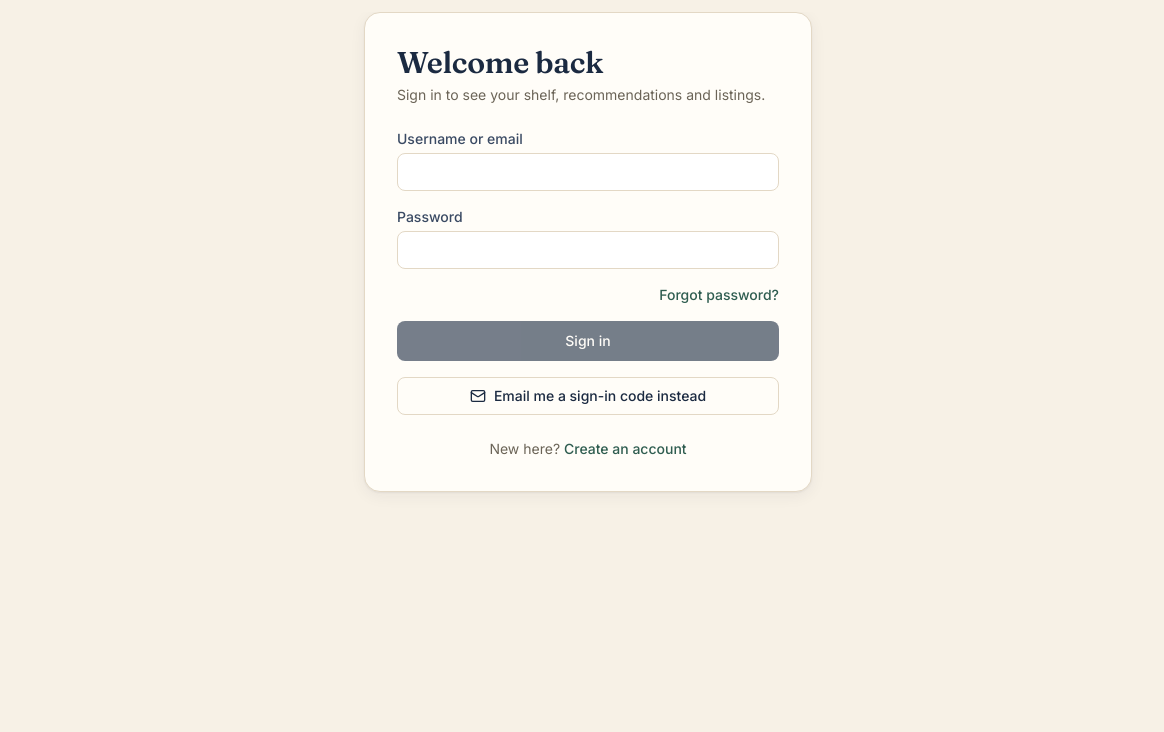
login flow › redirects to the requested page after logging in
This screenshot has width=1164, height=732.
In the field labelled "Username or email": coordinates (588, 172) [397,153,779,191], type "a@b.com"
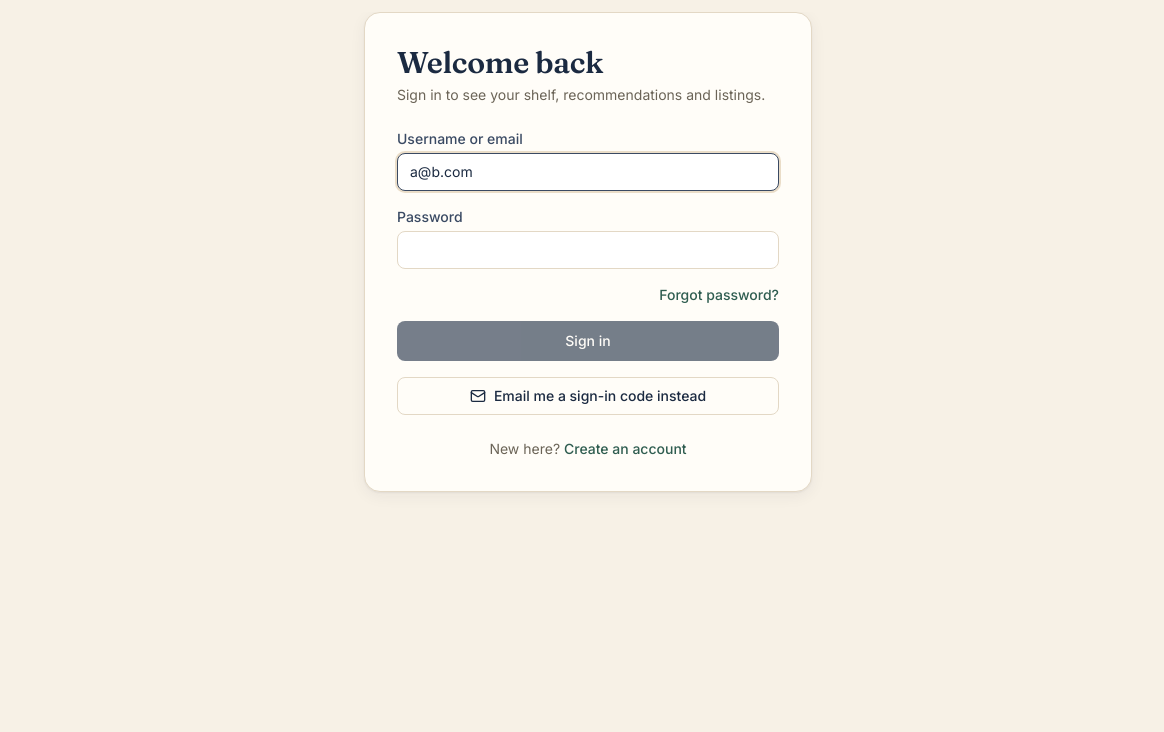
In the password field labelled "Password": coordinates (588, 250) [397,231,779,269], type "right-pass-1"
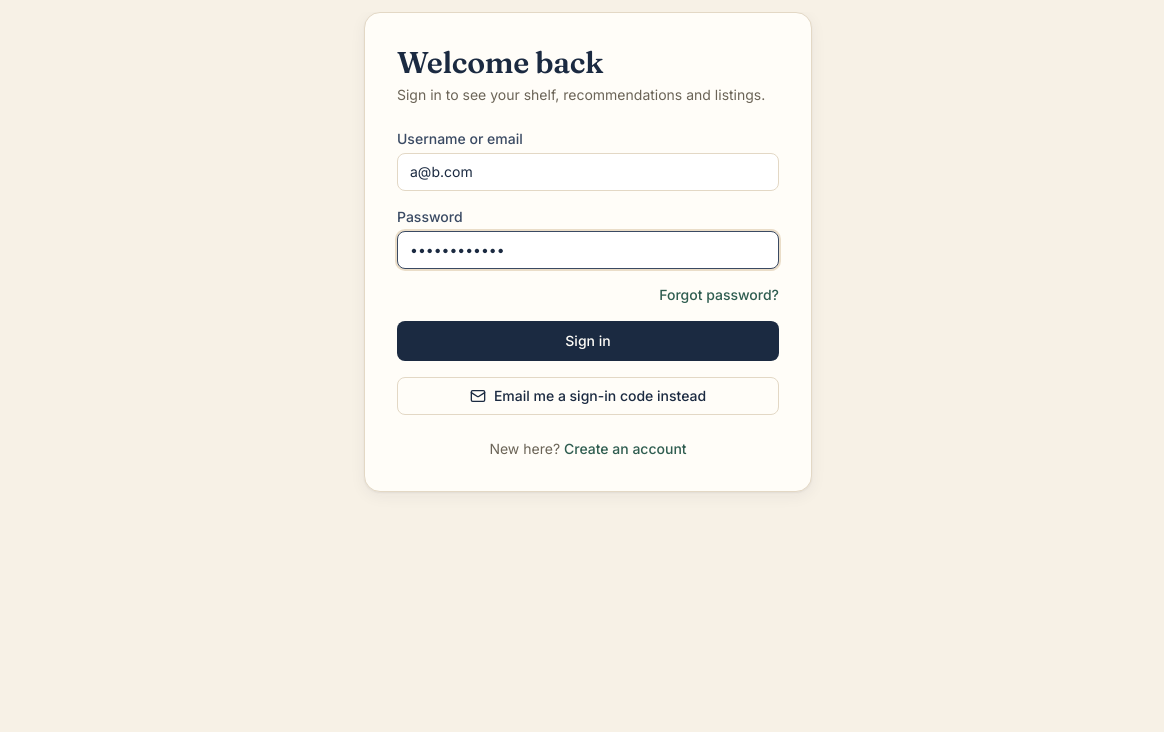
Click the button "Sign in": coordinates (588, 341) [397,321,779,361]
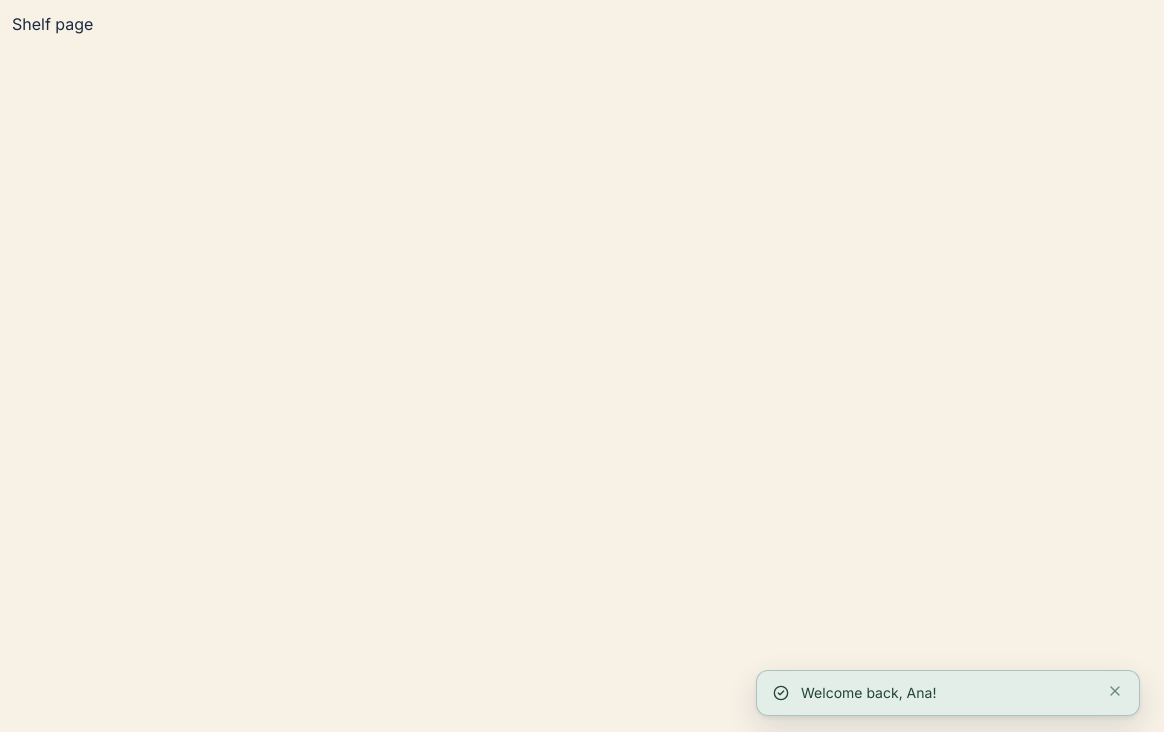
Now the text "Shelf page" is shown, box [12,14,93,34]
